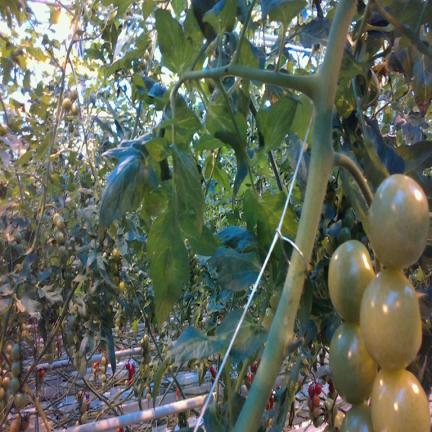6kp_peduncle: (306, 107, 374, 208)
6kp_petiole: (278, 33, 345, 160)
MainStem: (232, 0, 358, 431), (20, 281, 79, 389), (49, 14, 79, 154), (31, 161, 50, 248)
tomato: (360, 269, 422, 370), (368, 174, 429, 269), (329, 322, 377, 404), (328, 240, 374, 322), (371, 369, 430, 430), (340, 404, 374, 431), (324, 398, 338, 425), (263, 307, 274, 330), (334, 410, 345, 430), (270, 290, 281, 310), (14, 393, 26, 409), (10, 376, 20, 394), (10, 343, 20, 360), (11, 360, 20, 376), (68, 314, 76, 329), (73, 351, 79, 370), (112, 247, 120, 261), (67, 329, 74, 345), (62, 98, 71, 110), (70, 86, 77, 101), (56, 217, 64, 230), (55, 231, 63, 244), (2, 377, 10, 390), (80, 399, 87, 413), (308, 384, 315, 397), (316, 415, 324, 426), (58, 246, 66, 257), (313, 394, 320, 406), (71, 103, 78, 115), (68, 345, 75, 357), (307, 397, 313, 410), (313, 407, 320, 418), (315, 382, 321, 394), (53, 213, 59, 225), (111, 262, 117, 274), (81, 411, 87, 423), (118, 281, 125, 291), (310, 410, 315, 422), (113, 275, 119, 285), (324, 424, 332, 431), (0, 386, 4, 400), (146, 392, 151, 402), (101, 355, 105, 365), (100, 366, 105, 374), (102, 374, 106, 382)
